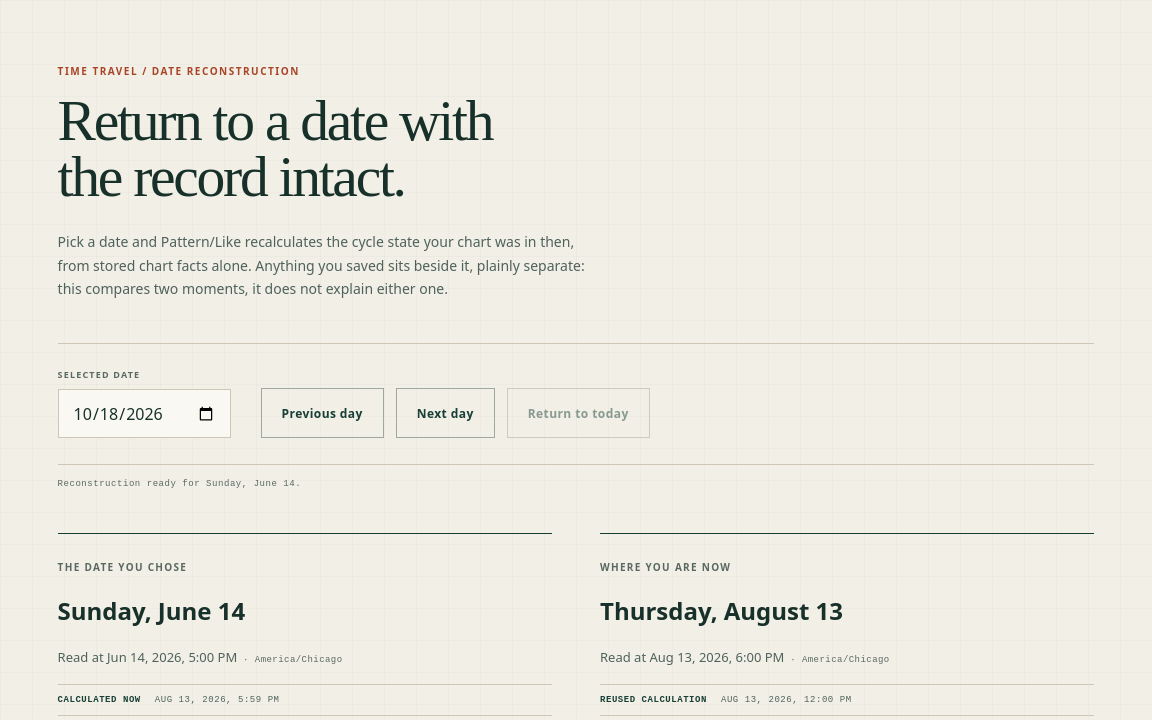
Test: Time Travel › drops a previous date's reconstruction when a new date fails
What coordinates should you click on to do the following:
click the button "Previous day"
I would click on:
 (322, 413)
Its box is [261,388,384,438].
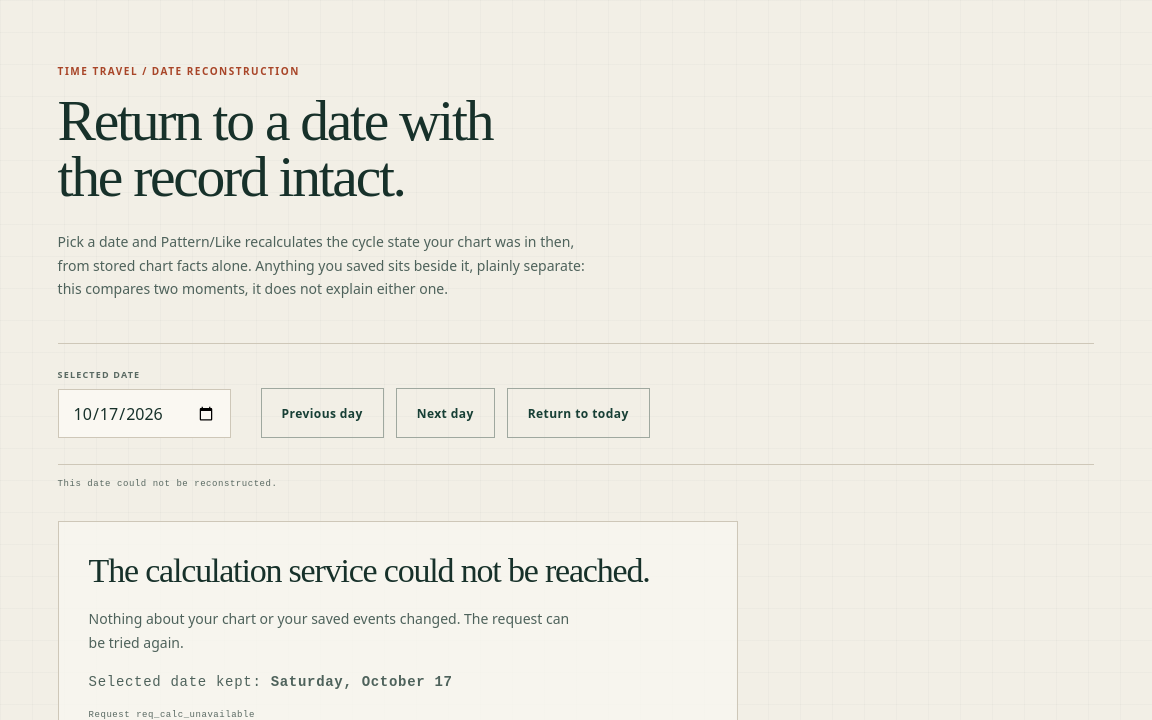
Now the heading "The calculation service could not be reached." is shown, box [89,552,650,591]
Now the text "Calculated now" is gone
